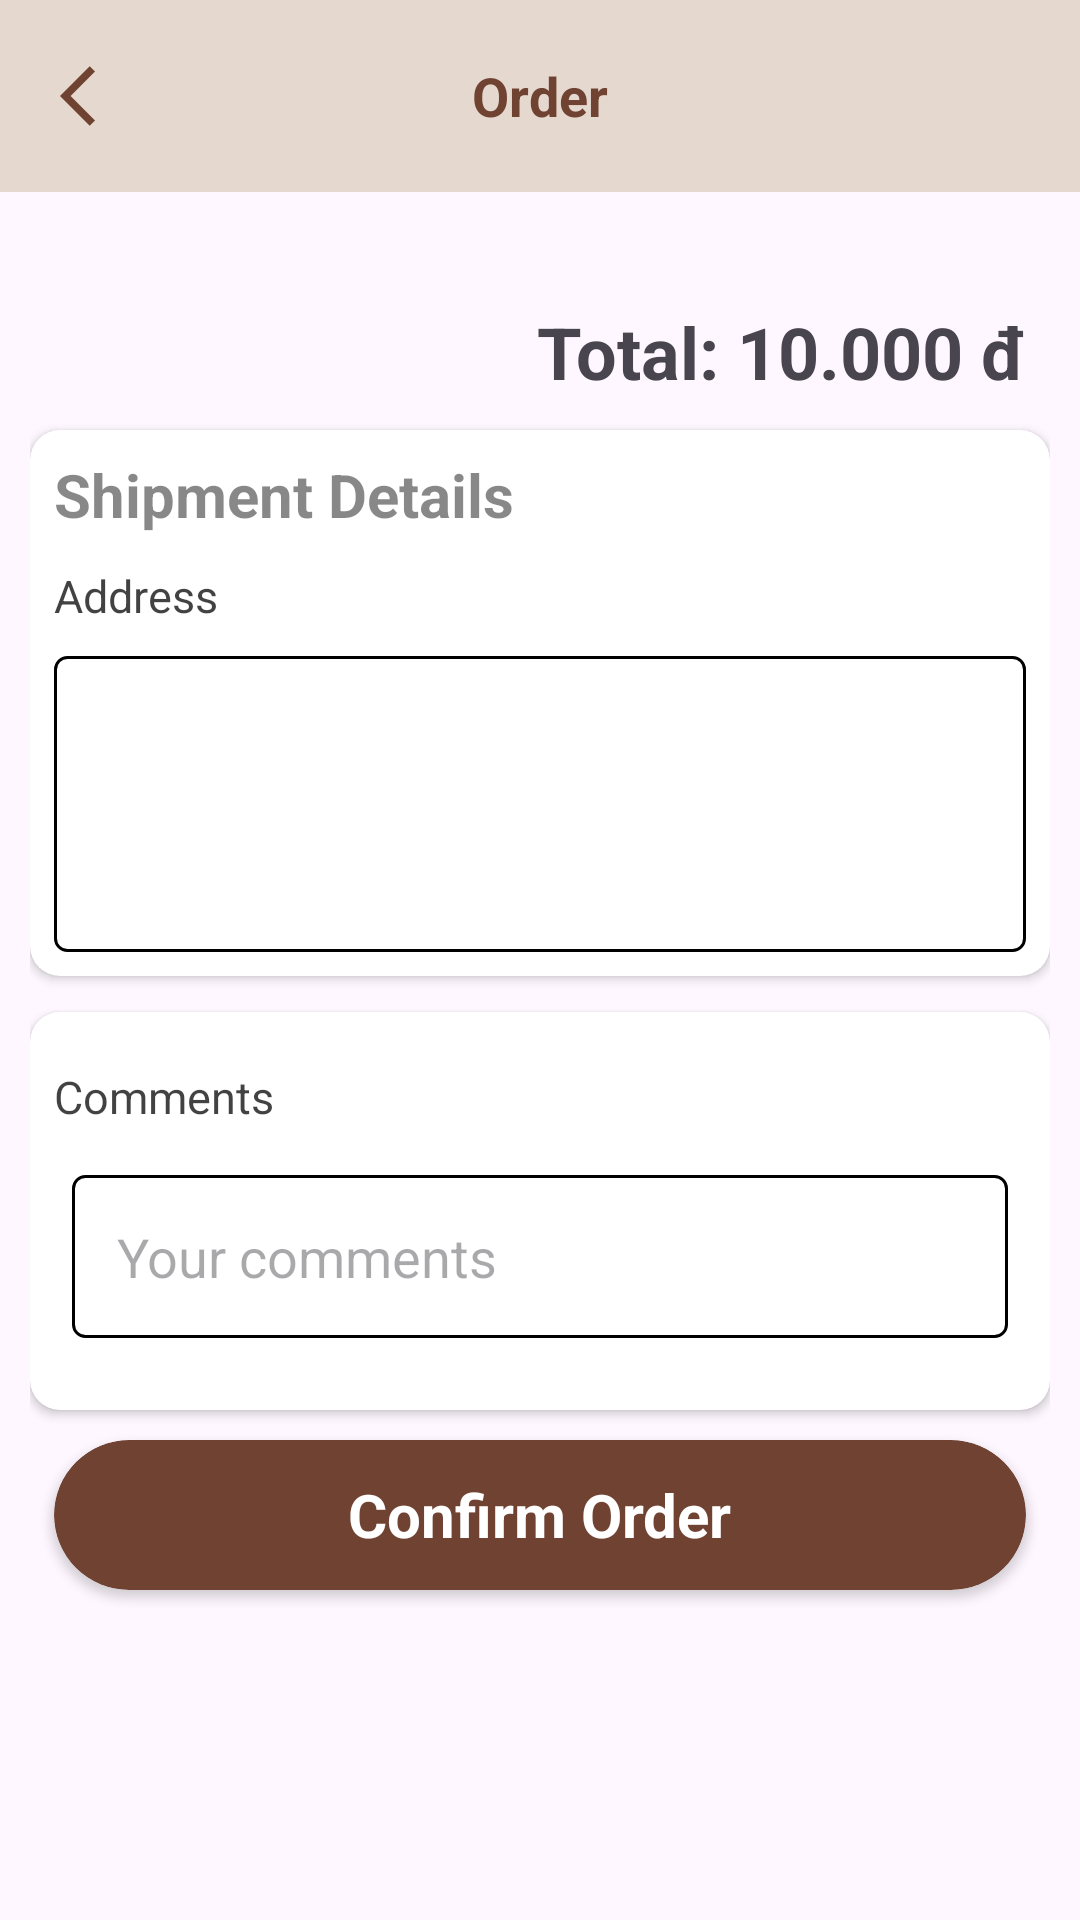

Where to tap for icons on this 1080w x 1920h app screen, as [x,y]:
back arrow: [77,96]
